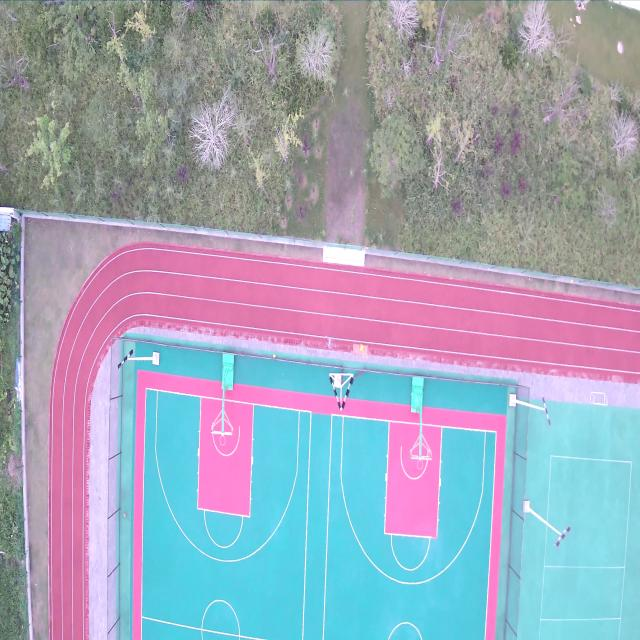UAV: (324, 332, 334, 352)
